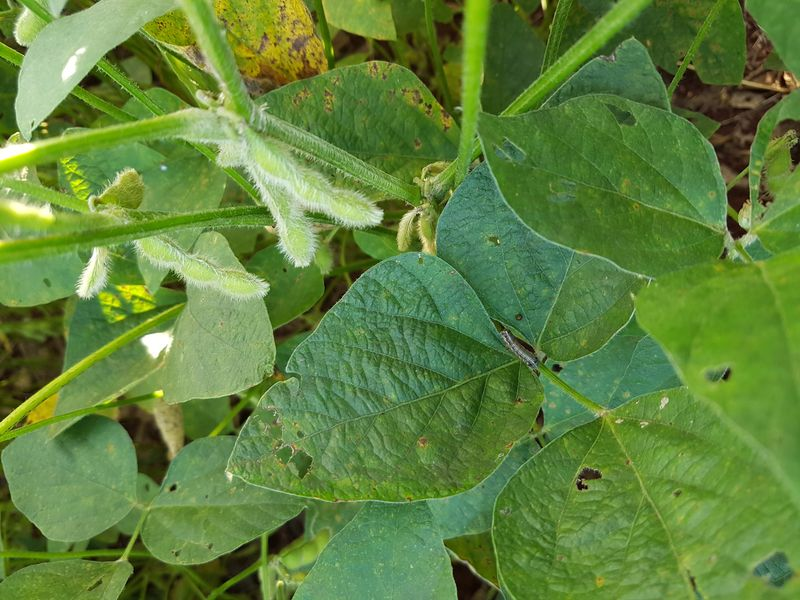Spodoptera_albula: (488, 320, 559, 381)
